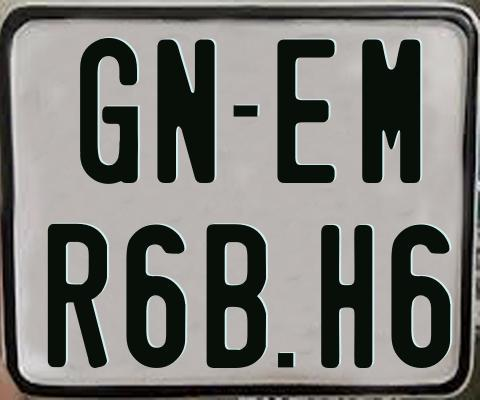6: (389, 222, 453, 371), (125, 223, 184, 367)
B: (203, 222, 269, 367)
E: (276, 39, 335, 189)
G: (79, 37, 138, 188)
H: (321, 224, 375, 371)
M: (359, 39, 418, 183)
N: (157, 39, 217, 188)
R: (45, 223, 109, 372)
